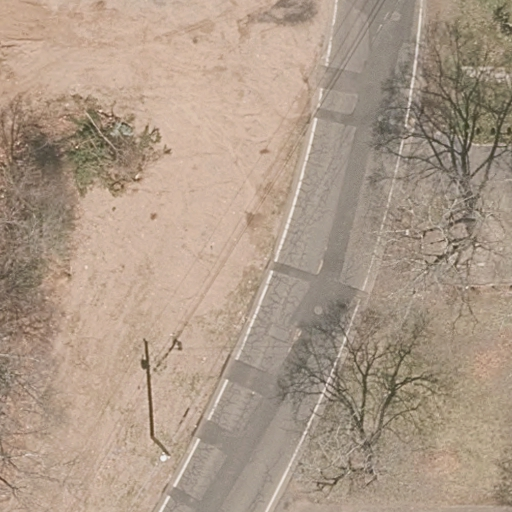DT: (150, 434, 179, 462)
